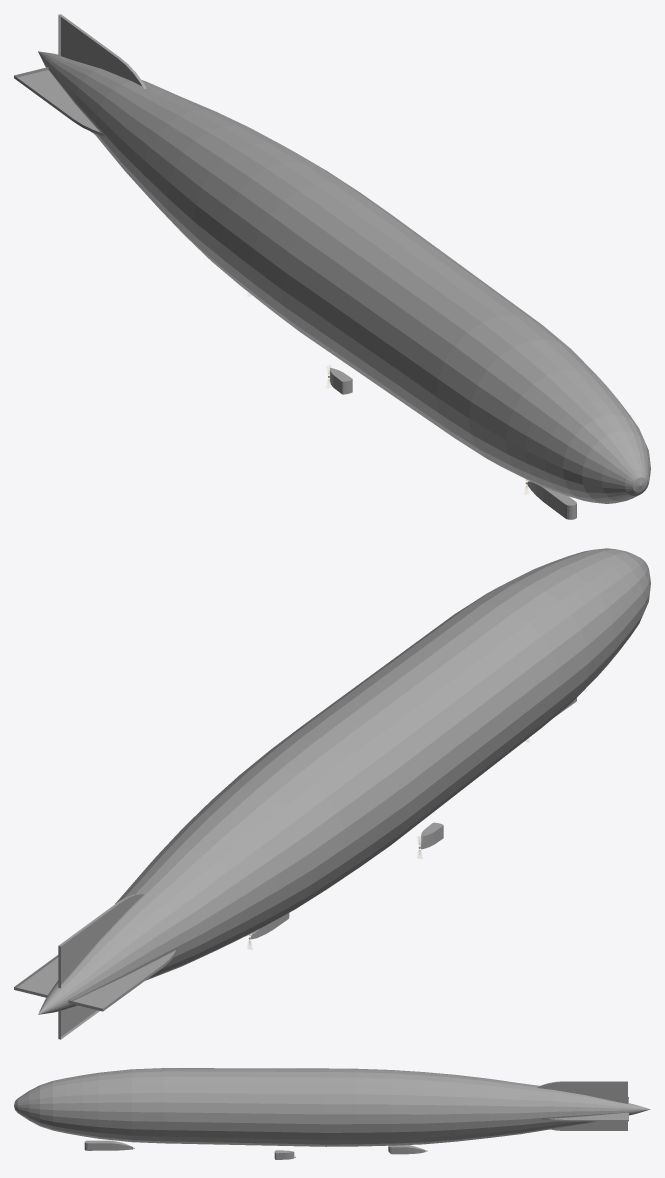
File: zeppelin.glb
The picture shows the model from 3 angles, top to bottom: view 1: azimuth 30°, elevation 25°; view 2: azimuth 150°, elevation 25°; view 3: azimuth 270°, elevation 25°; orthographic projection. The views are drawn at different scales.
Visible parts, largest first — view 1: fuselage, rudderV, rudderH, gondolaF; view 2: fuselage, rudderV, rudderH; view 3: fuselage, rudderV, rudderH, gondolaF, gondolaR, engineL.
Part boxes in pixels (x1=…): fuselage: x1=38, y1=51, x2=650, y2=503; rudderV: x1=58, y1=14, x2=146, y2=134; rudderH: x1=14, y1=67, x2=104, y2=136; gondolaF: x1=527, y1=481, x2=576, y2=519; fuselage: x1=38, y1=548, x2=650, y2=1014; rudderV: x1=58, y1=893, x2=143, y2=1039; rudderH: x1=14, y1=947, x2=177, y2=1011; fuselage: x1=14, y1=1068, x2=650, y2=1146; rudderV: x1=537, y1=1081, x2=627, y2=1130; rudderH: x1=542, y1=1097, x2=628, y2=1121; gondolaF: x1=84, y1=1140, x2=133, y2=1150; gondolaR: x1=388, y1=1145, x2=425, y2=1154; engineL: x1=274, y1=1150, x2=294, y2=1159.
Size of the model in its own units: 23.9 by 28.77 by 194.
4 materials, 2 textured.
